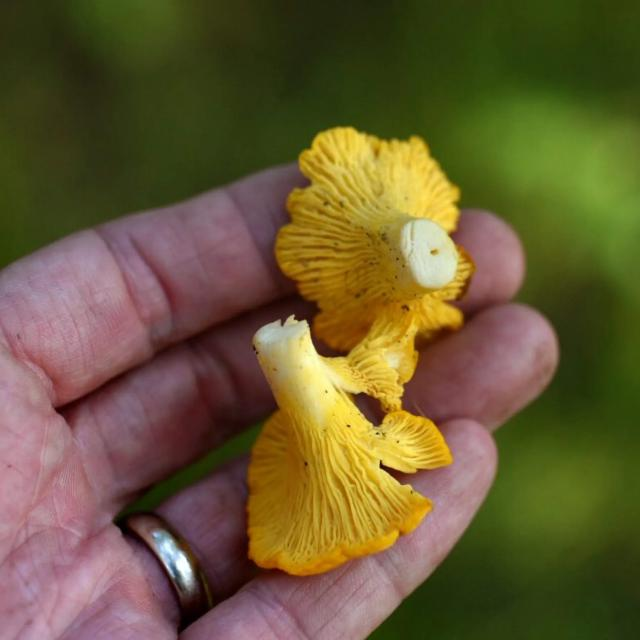chanterelle: (273, 127, 526, 387), (245, 319, 451, 579)
